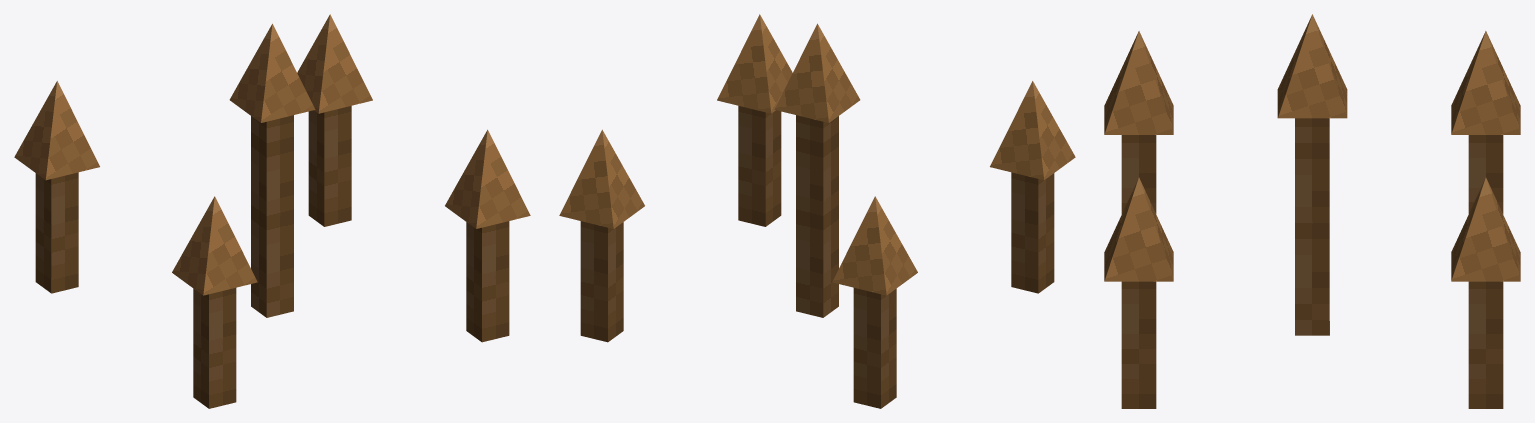
Rendered from Spikes_Wood.glb.
The picture shows the model from 3 angles, left to right: view 1: azimuth 30°, elevation 25°; view 2: azimuth 150°, elevation 25°; view 3: azimuth 270°, elevation 25°; orthographic projection. The views are drawn at different scales.
Visible parts, largest first — view 1: spike; view 2: spike; view 3: spike.
Part boxes in pixels (left/top/right/bottom): spike: left=14, top=14, right=530, bottom=408; spike: left=559, top=14, right=1075, bottom=408; spike: left=1104, top=14, right=1520, bottom=408.
Bounding box in the file's own units: 0.75 × 0.625 × 0.75.
Materials: 1 (1 with a texture image).
